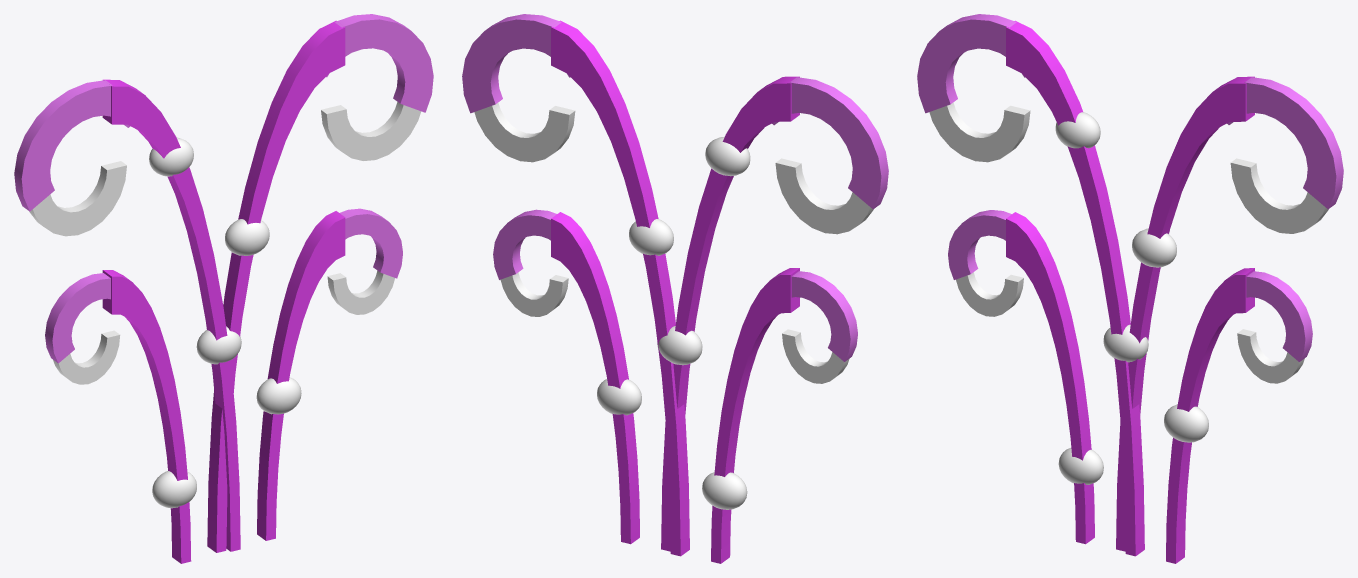
File: glowplant_pink.fbx
3 views of the same model, side by side, from view 1: azimuth 30°, elevation 25°; view 2: azimuth 150°, elevation 25°; view 3: azimuth 330°, elevation 25° (orthographic).
Parts seen in each view (by area): view 1: mergedBlocks; view 2: mergedBlocks; view 3: mergedBlocks.
Boxes of the visible parts, x1=… form: mergedBlocks: x1=14, y1=14, x2=433, y2=563; mergedBlocks: x1=462, y1=14, x2=888, y2=563; mergedBlocks: x1=917, y1=14, x2=1343, y2=563.
Bounding box in the file's own units: 13.04 × 14.92 × 0.946.
